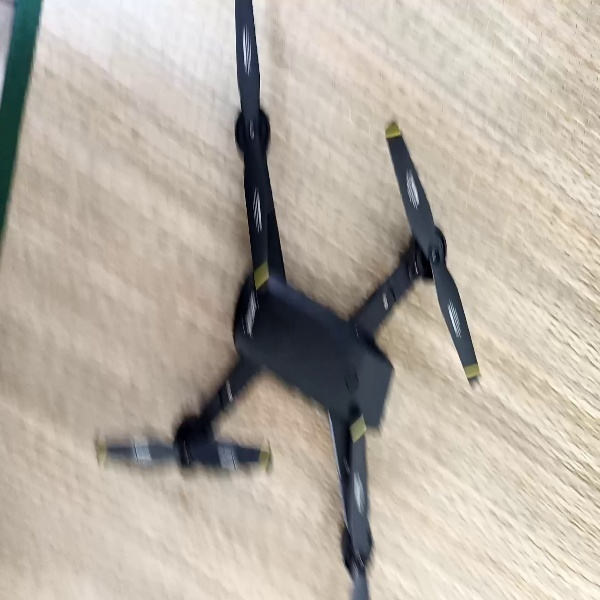drone: (91, 4, 486, 600)
